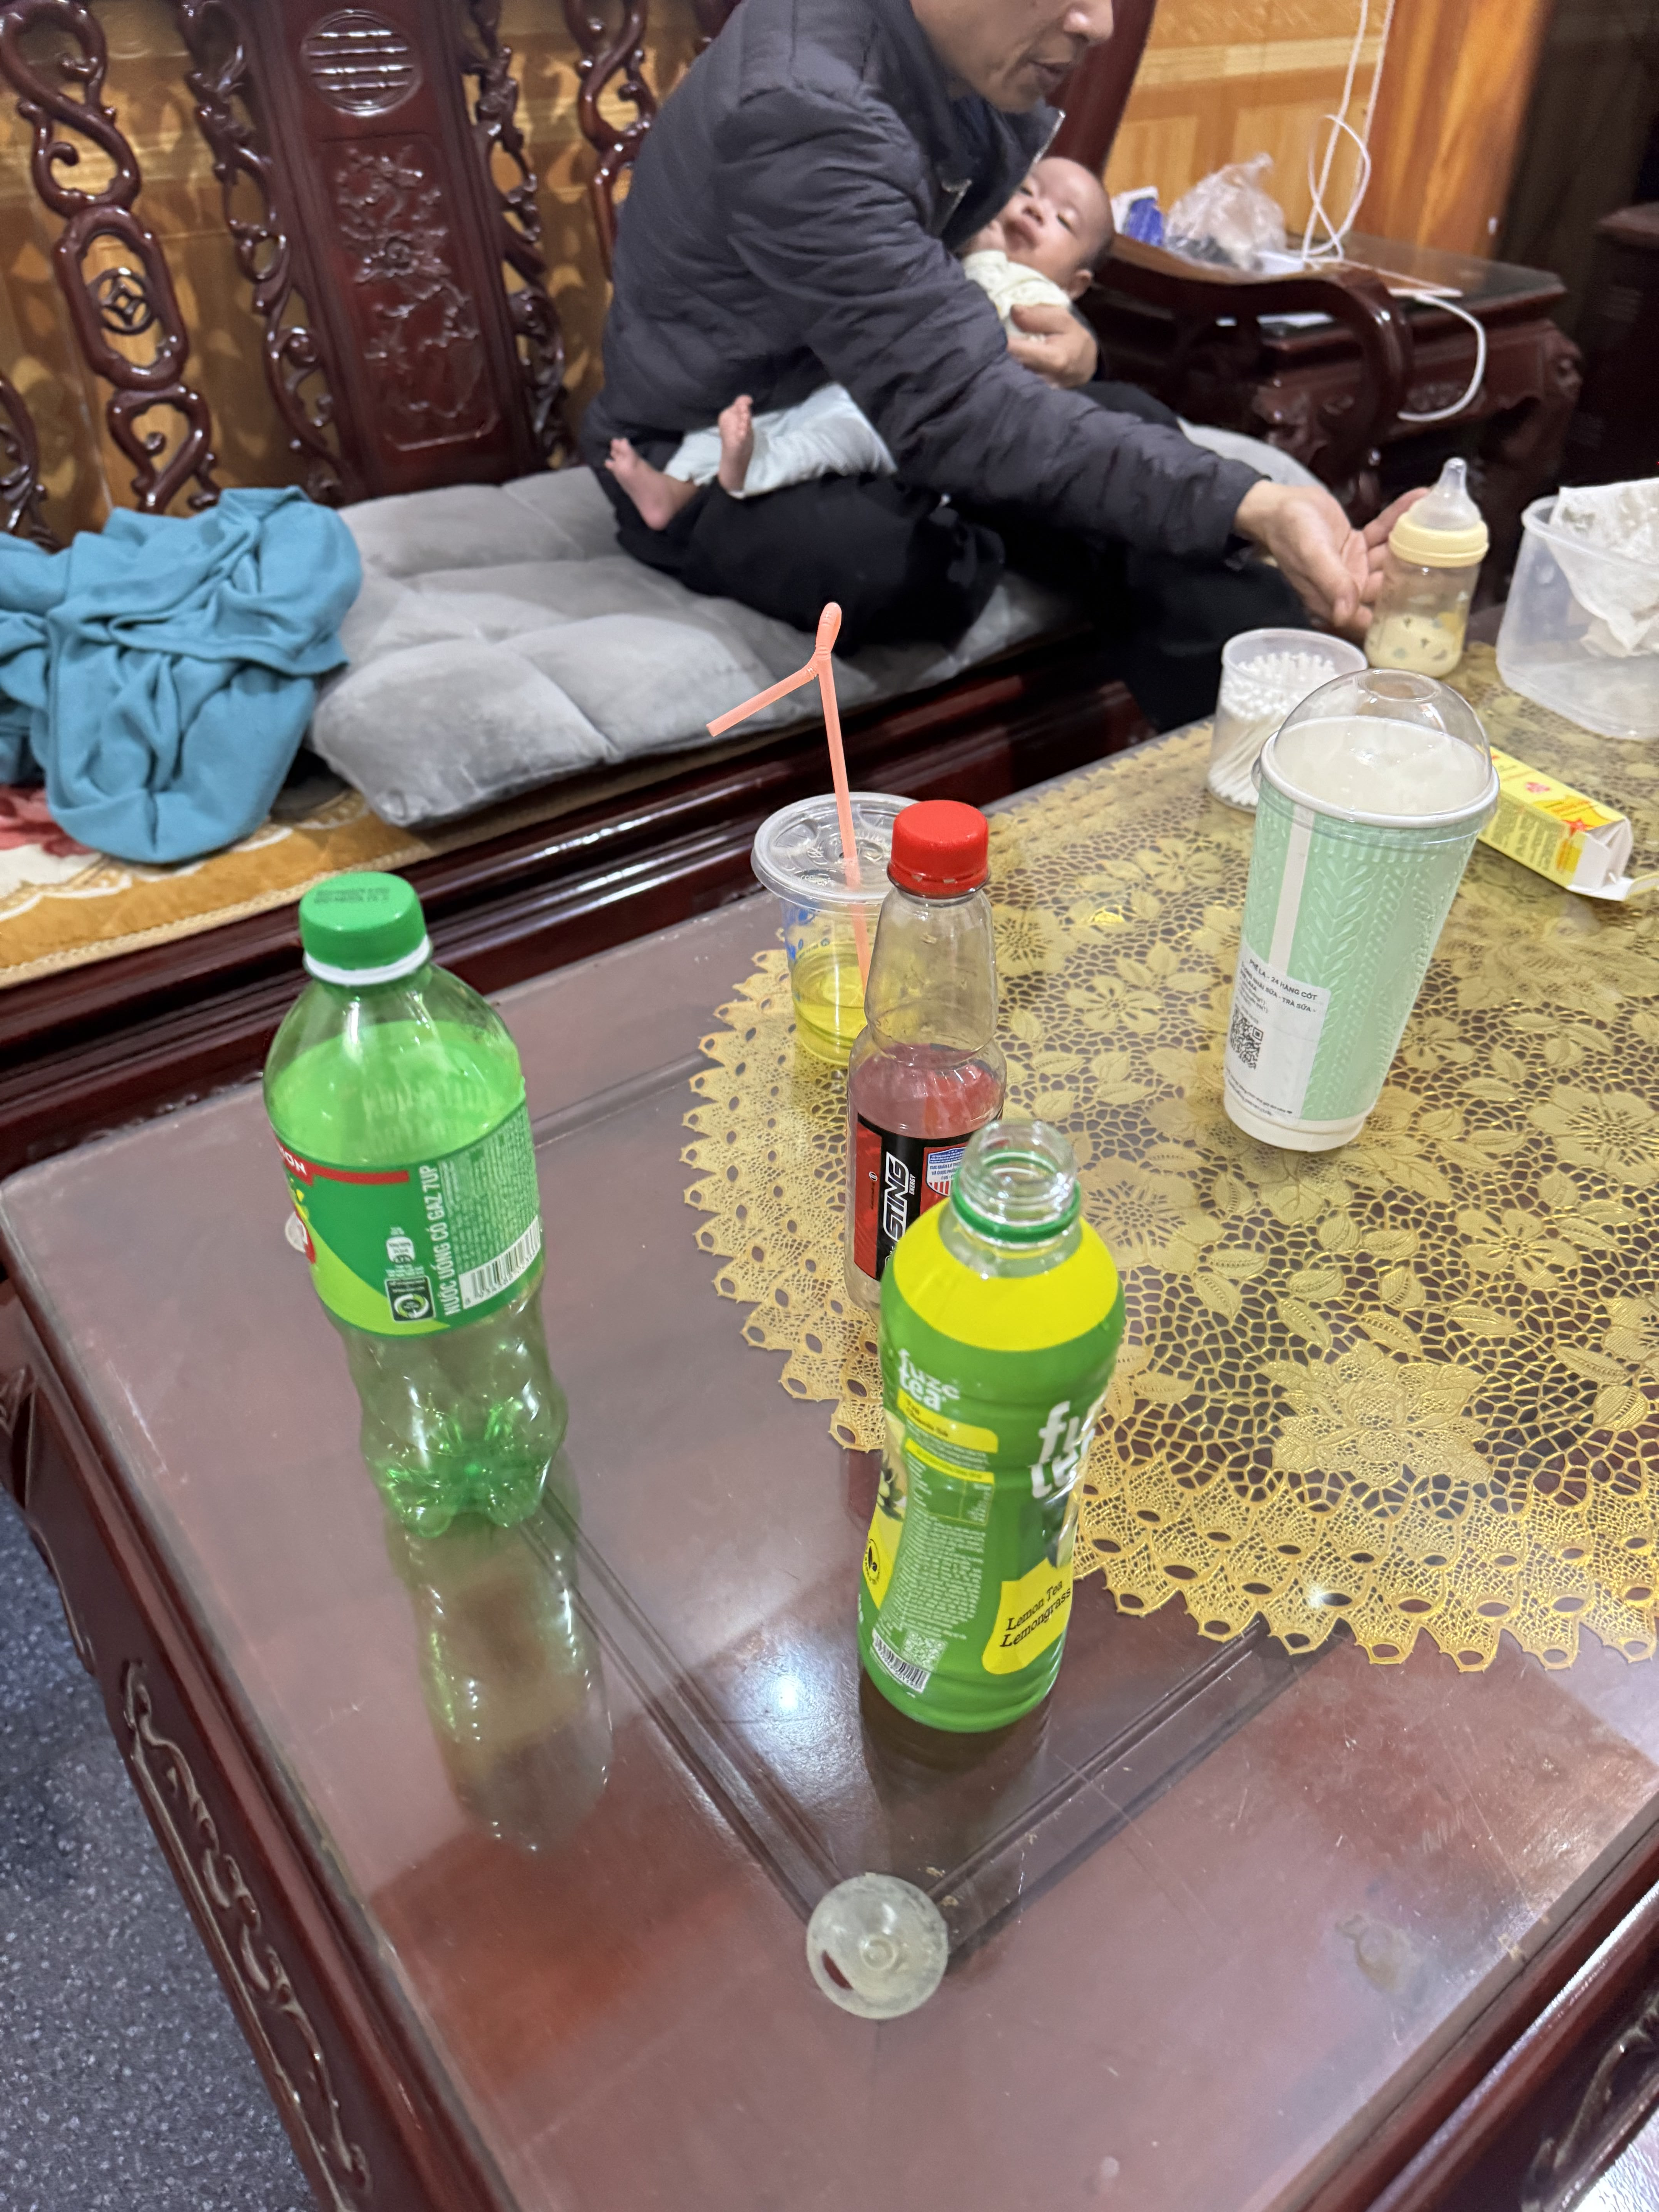2: (1208, 629, 1520, 1193), (711, 773, 1002, 1075)
bottle: (227, 857, 660, 1575), (816, 1101, 1166, 1770), (843, 784, 1039, 1343)
